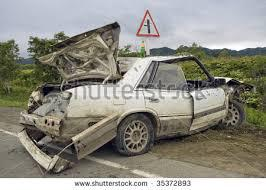doorouter-dent: (192, 92, 221, 128)
rear-bumper-dent: (19, 114, 83, 141)
